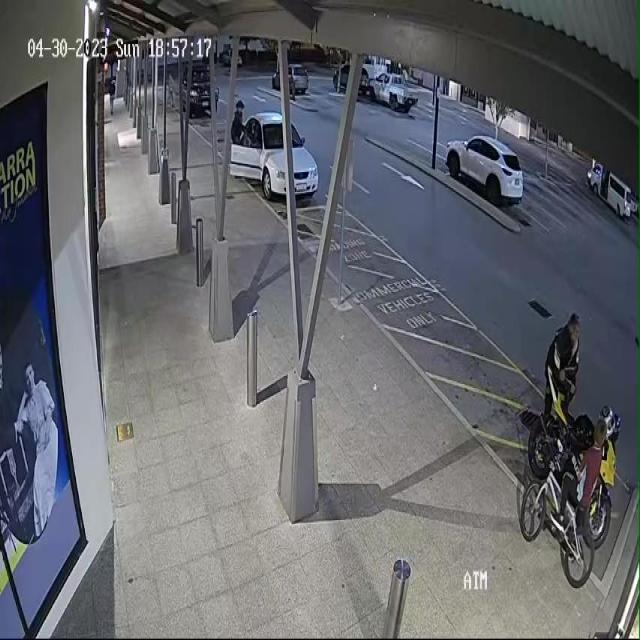Car: (232, 104, 322, 207), (441, 124, 525, 213), (579, 158, 635, 230), (181, 62, 219, 120), (264, 58, 308, 97), (332, 59, 366, 95)
Truck: (369, 64, 424, 116)
